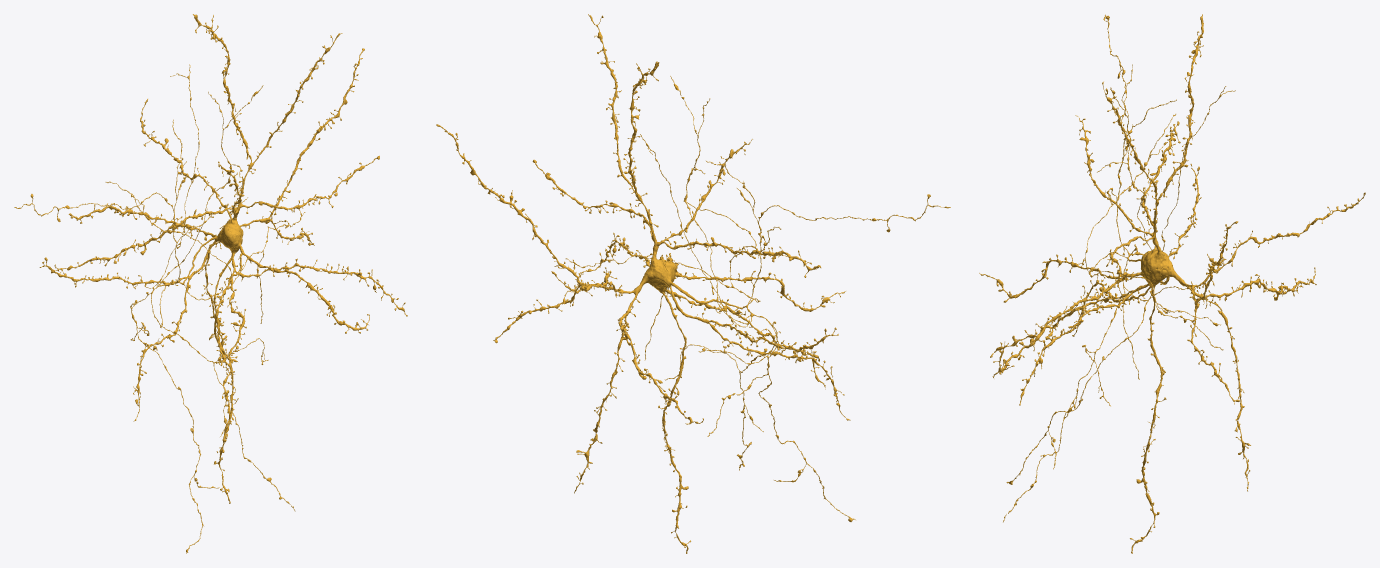
Rendered from example_MSNonlyGPi.glb.
The picture shows the model from 3 angles, left to right: view 1: azimuth 30°, elevation 25°; view 2: azimuth 150°, elevation 25°; view 3: azimuth 270°, elevation 25°; orthographic projection. The views are drawn at different scales.
Visible parts, largest first — view 1: 1340425305_msn_onlyGPi; view 2: 1340425305_msn_onlyGPi; view 3: 1340425305_msn_onlyGPi.
Part boxes in pixels (x1,y1,x2,y2): 1340425305_msn_onlyGPi: (14, 14, 407, 553); 1340425305_msn_onlyGPi: (436, 14, 950, 553); 1340425305_msn_onlyGPi: (979, 14, 1365, 553).
Bounding box in the file's own units: 1.57 × 1.72 × 1.13.
